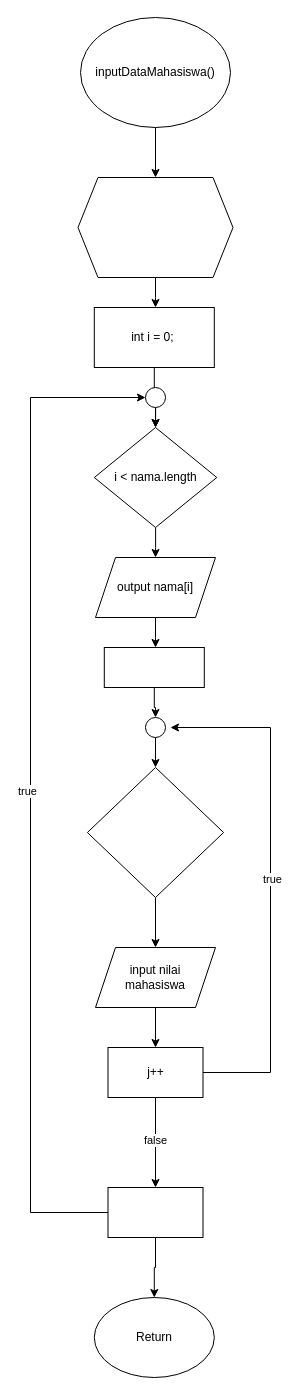
Image size: 298x1395. Some labels were removed from this diagram. Here are the shapes that lost their labels. From the top down, the centre of each, then its label:
At (x=155, y=227): "String[] nama = {}, int[][] dataMahasiswa = new int[5][7];".
At (x=153, y=667): "int j = 0".
At (x=155, y=832): "j < dataMahasiswa[0]. length".
At (x=155, y=1212): "i++".
